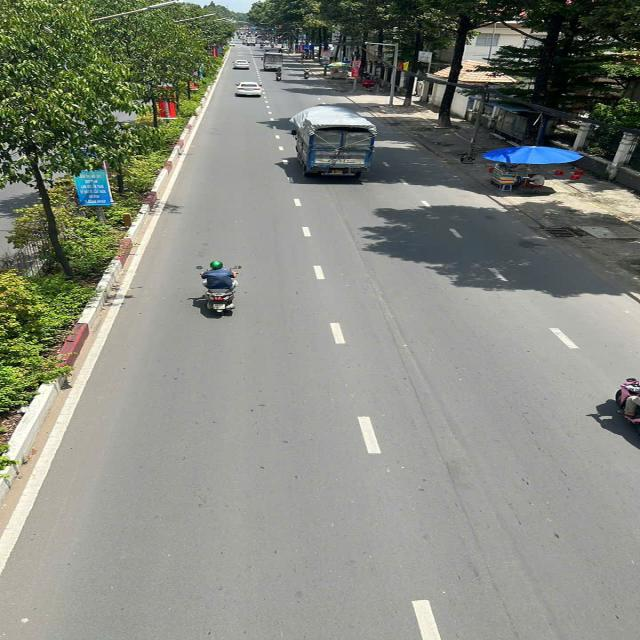ben: (288, 103, 384, 186), (261, 49, 288, 71)
car: (235, 80, 264, 99), (231, 57, 253, 71)
motobyte: (192, 258, 246, 319), (301, 66, 313, 80), (274, 68, 284, 82)
